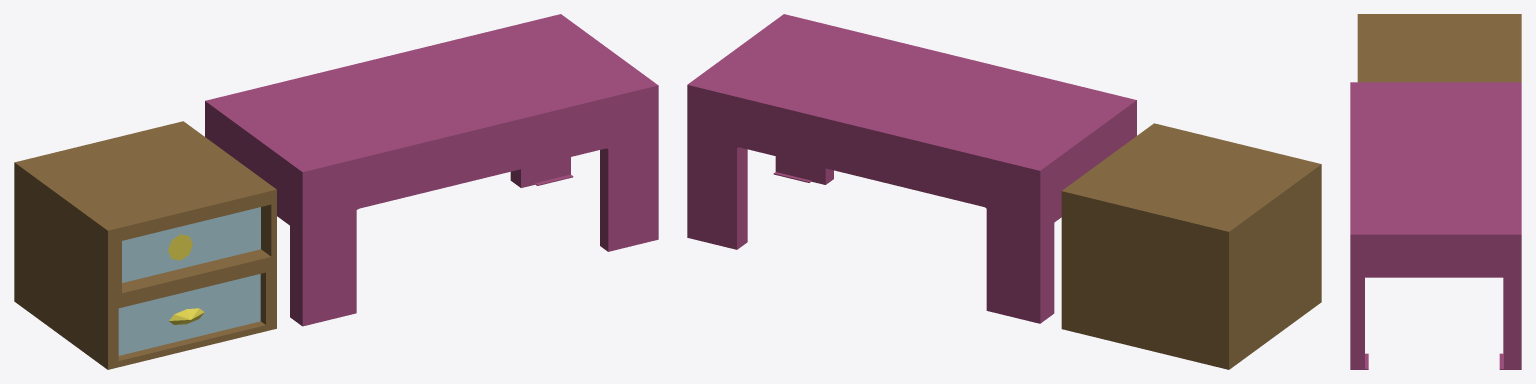
File: Table.glb
The picture shows the model from 3 angles, left to right: view 1: azimuth 30°, elevation 25°; view 2: azimuth 150°, elevation 25°; view 3: azimuth 270°, elevation 25°; orthographic projection. The views are drawn at different scales.
Visible parts, largest first — view 1: Mesh_Mesh_head_geo.001_lambert2SG.001; view 2: Mesh_Mesh_head_geo.001_lambert2SG.001; view 3: Mesh_Mesh_head_geo.001_lambert2SG.001.
Part boxes in pixels (x1,y1,x2,y2): Mesh_Mesh_head_geo.001_lambert2SG.001: (14,14,658,369); Mesh_Mesh_head_geo.001_lambert2SG.001: (687,14,1321,369); Mesh_Mesh_head_geo.001_lambert2SG.001: (1350,14,1521,369).
Bounding box in the file's own units: 152 × 41 × 47.
